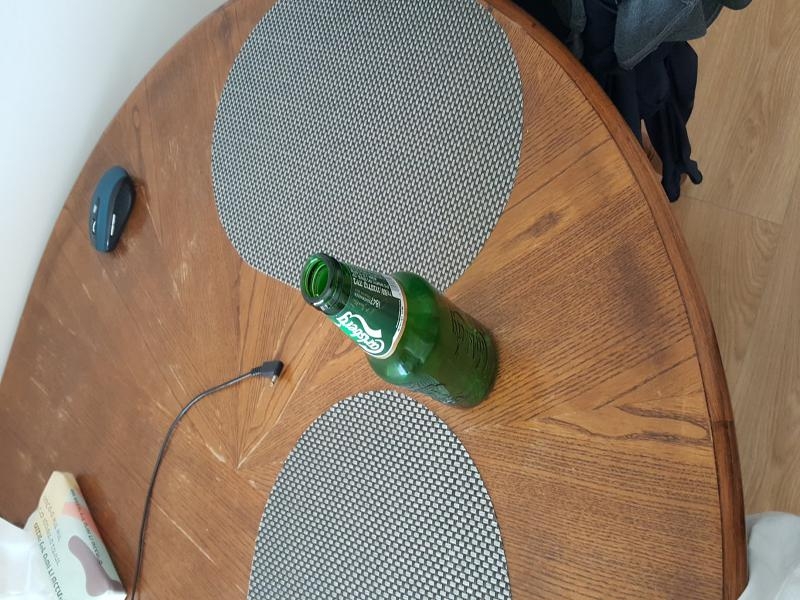Beer: (301, 251, 502, 416)
